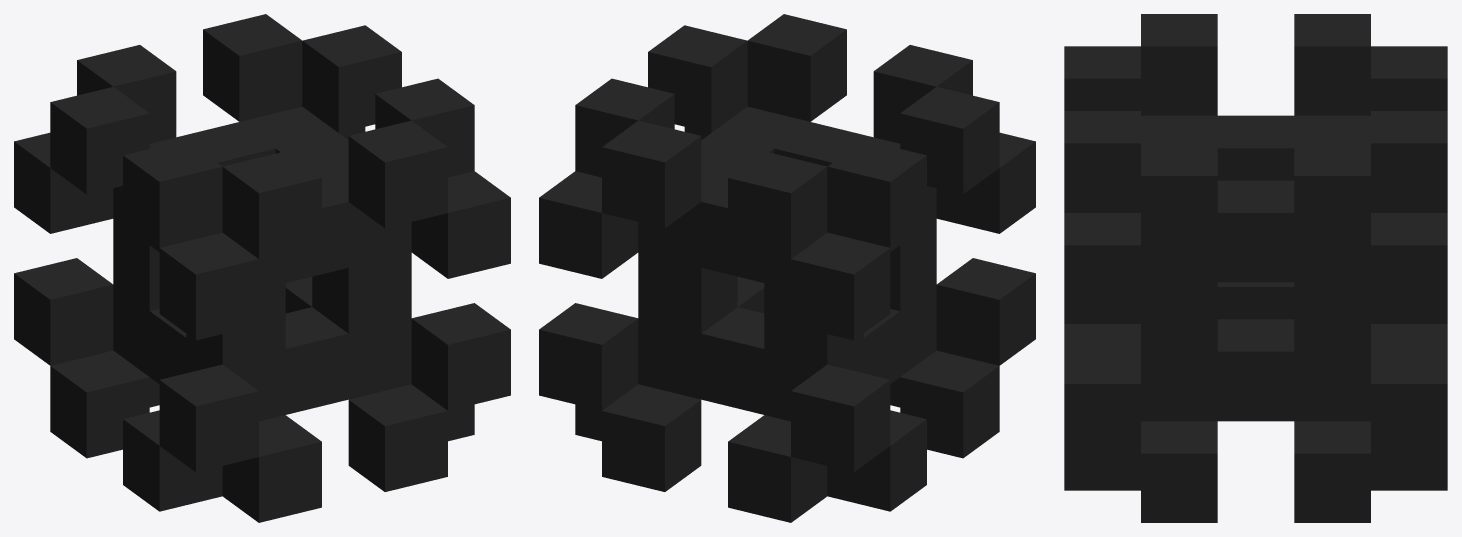
The model's file is Pickable3-1.obj.
The picture shows the model from 3 angles, left to right: view 1: azimuth 30°, elevation 25°; view 2: azimuth 150°, elevation 25°; view 3: azimuth 270°, elevation 25°; orthographic projection. The views are drawn at different scales.
Size of the model in its own units: 0.5 by 0.5 by 0.5.
Materials: 1 (1 with a texture image).
